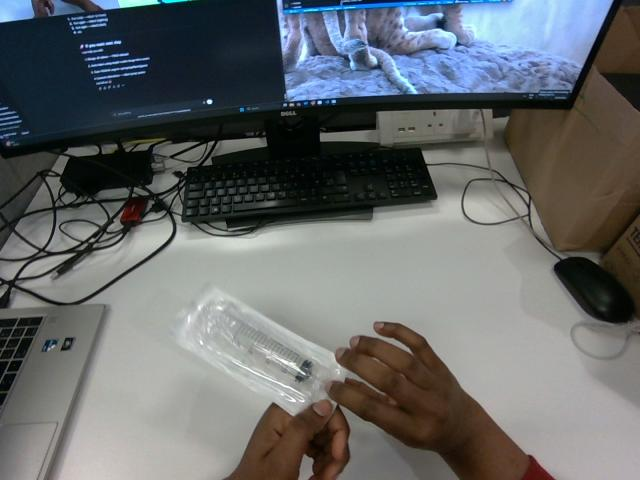syringe: (171, 288, 344, 414)
